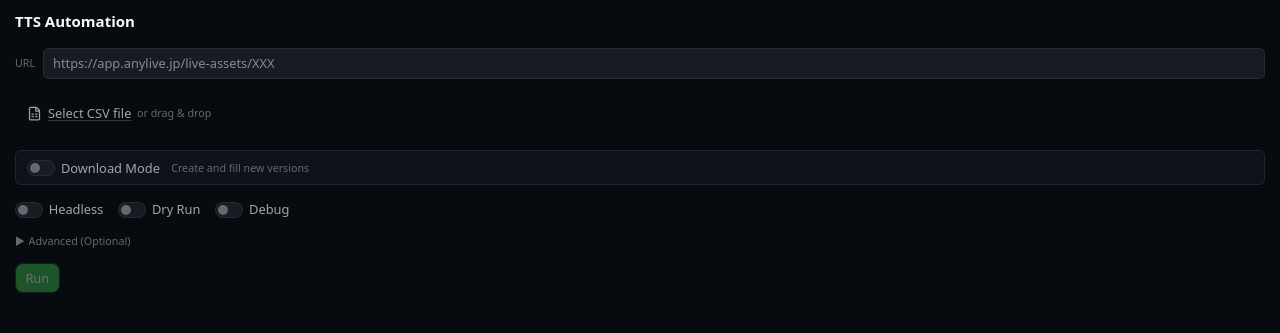
Test: TTSPanel › run button enabled in download mode without CSV when sidecarUrl provided
expect the button with test id "run-button" is disabled: met, box [15,263,60,293]
Step 1. Click the checkbox with test id "option-download" → (41, 168), box [27,160,55,176]
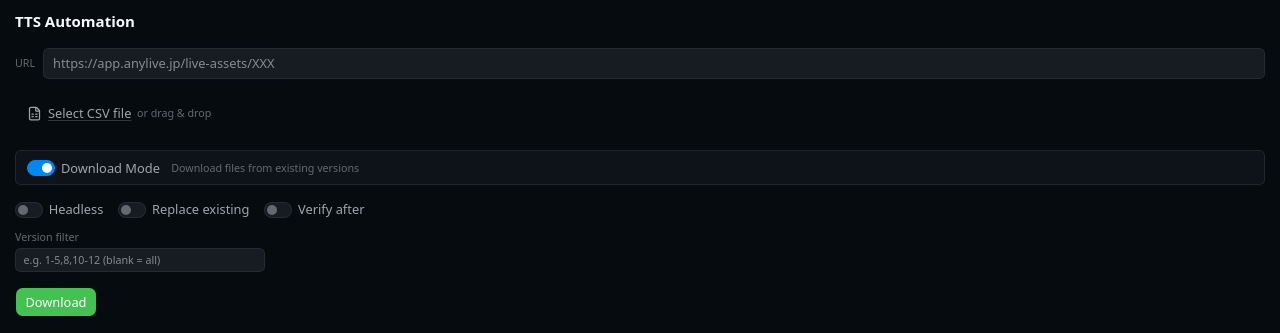
expect the button with test id "run-button" is enabled: met, box [15,287,97,317]
